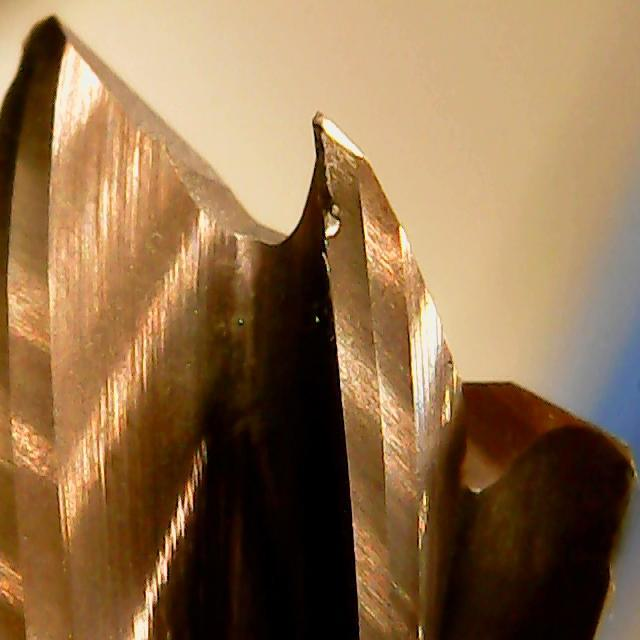Tool-wear-class-1: (298, 107, 411, 363)
